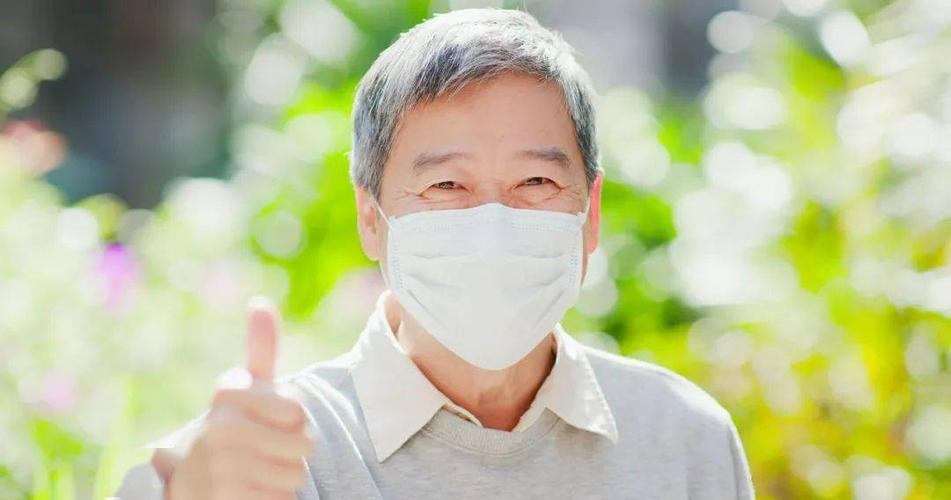mask: (365, 41, 619, 378)
